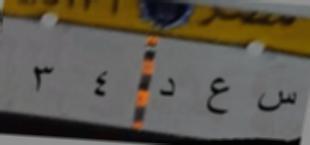3: (13, 58, 59, 99)
4: (80, 63, 118, 108)
ain: (198, 72, 238, 128)
daal: (148, 72, 183, 106)
seen: (253, 80, 298, 125)
